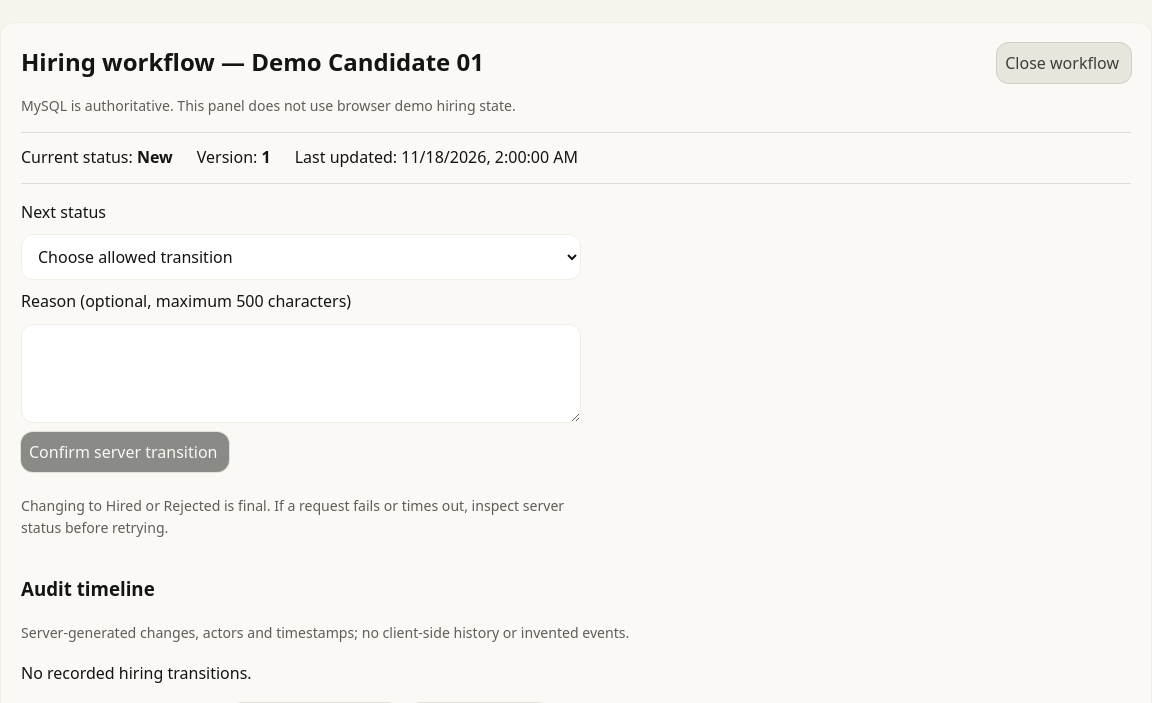
authenticated MySQL hiring workflow panel › manual safe retry uses the identical UUID key and payload after a lost response
Expected: the text "New" is shown, x1=137 y1=146 x2=173 y2=168
Select "Contacted" in the dropdown labelled "Next status" at point(301, 257), box x1=21 y1=234 x2=581 y2=280
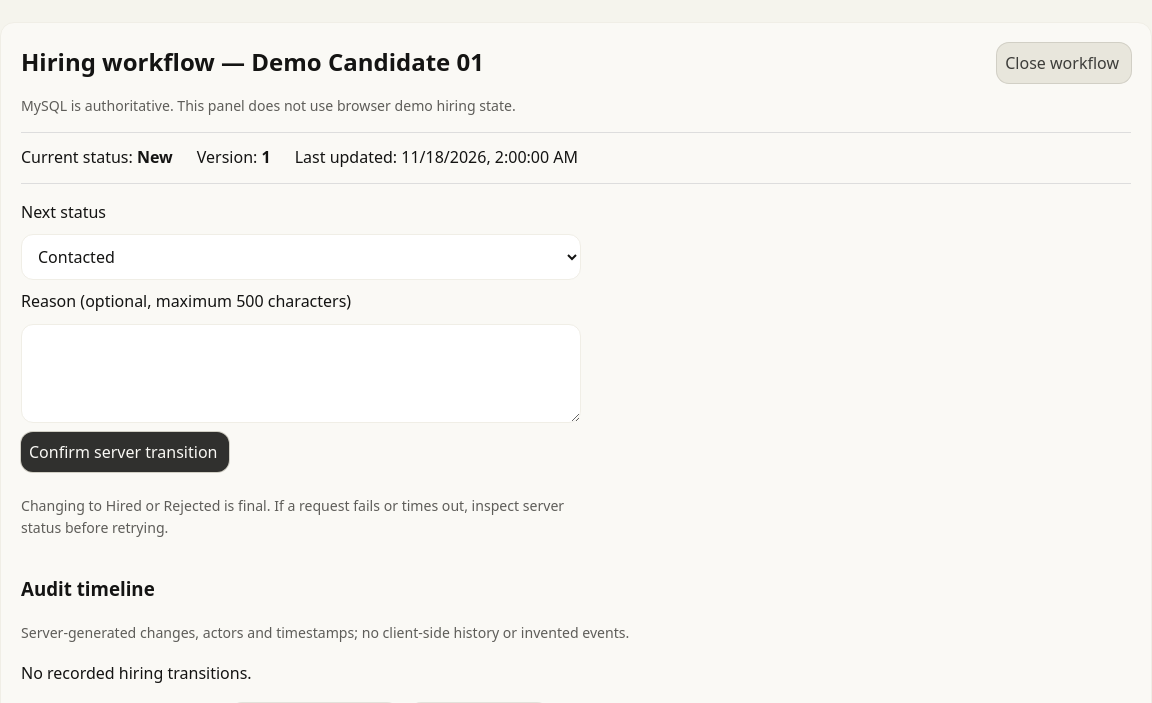
Type "Reviewed" into the text box labelled "Reason (optional, maximum 500 characters)" at point(301, 373), box x1=21 y1=324 x2=581 y2=423
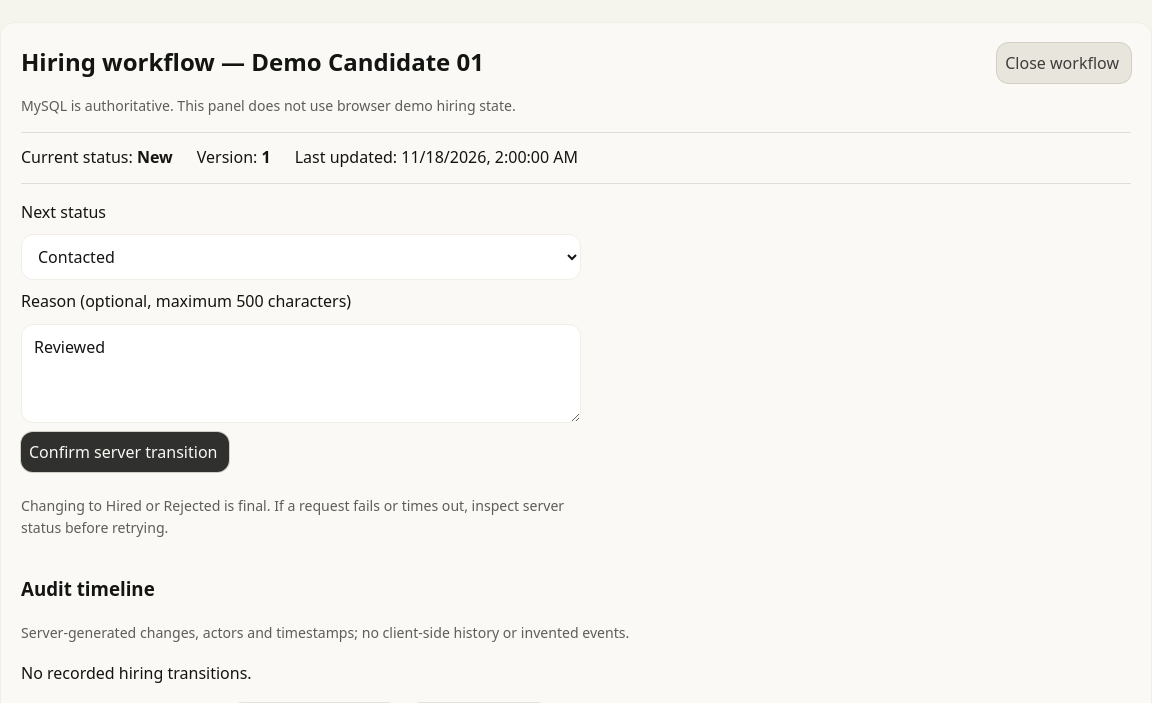
Click the button "Confirm server transition" at point(125, 452), box x1=21 y1=432 x2=230 y2=472
(page scrolled)
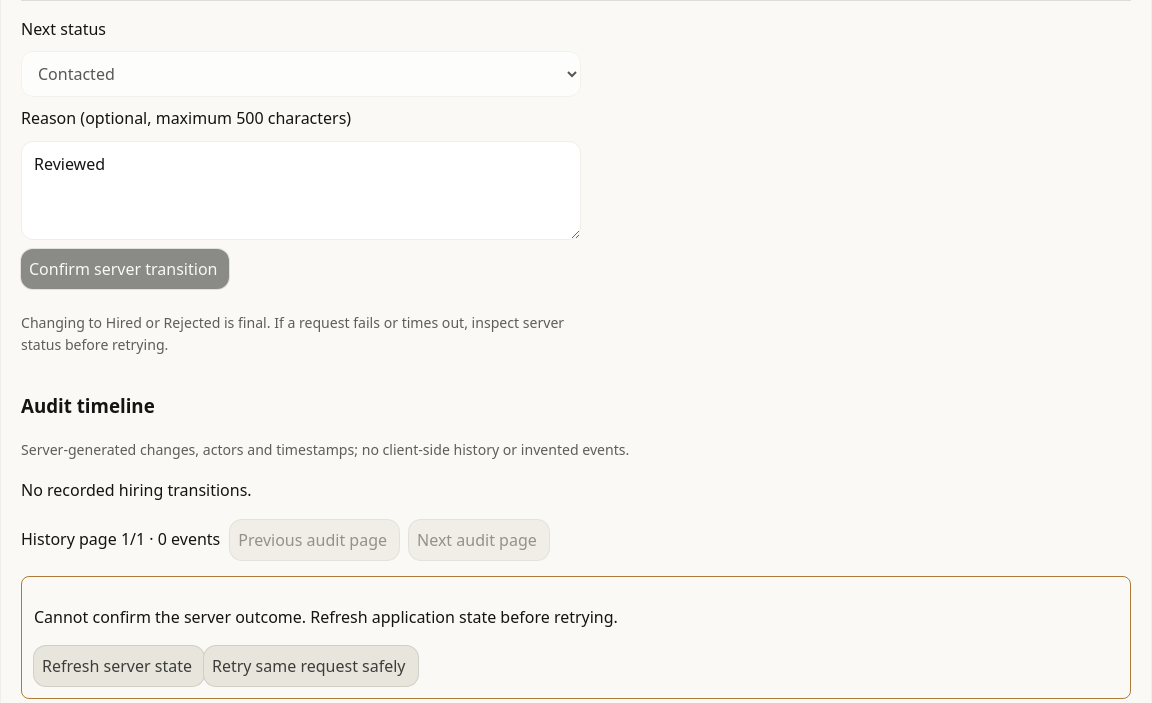
Now the message is shown, box x1=21 y1=576 x2=1131 y2=699
Now the button "Retry same request safely" is shown
Click the button "Retry same request safely" at point(311, 666), box x1=204 y1=646 x2=418 y2=686
(page scrolled)
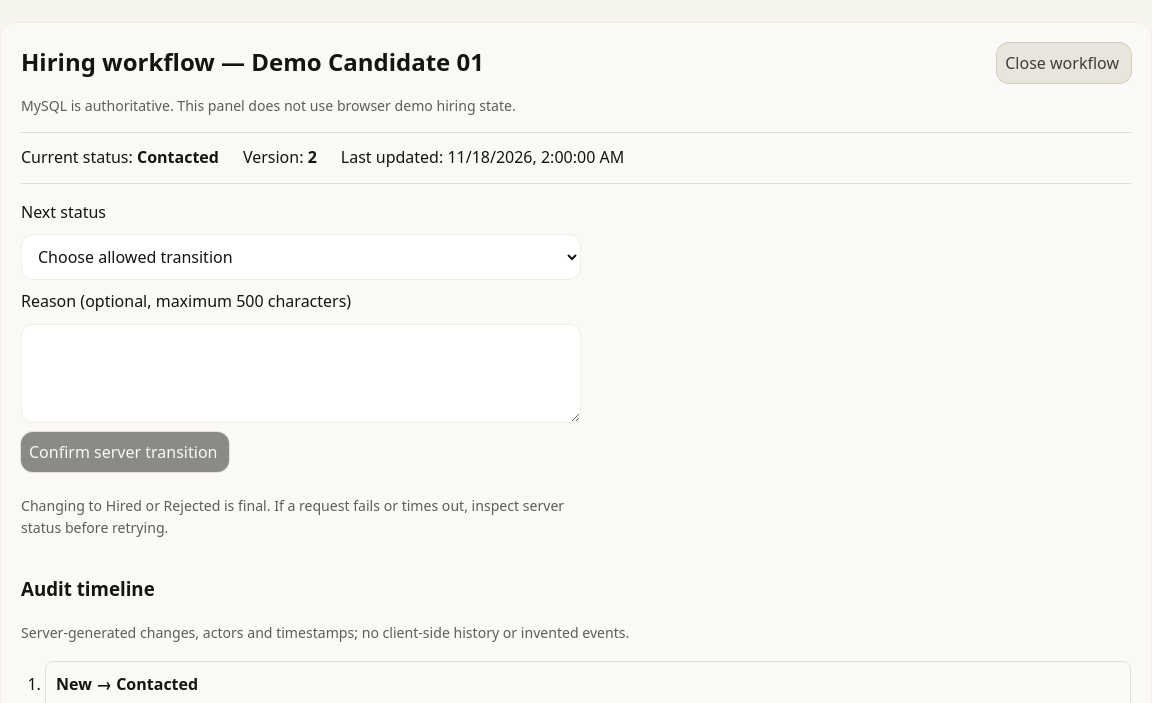
Now the text "New → Contacted" is shown, box x1=56 y1=673 x2=198 y2=695
Now the text "Version: 2" is shown, box x1=243 y1=145 x2=317 y2=171
